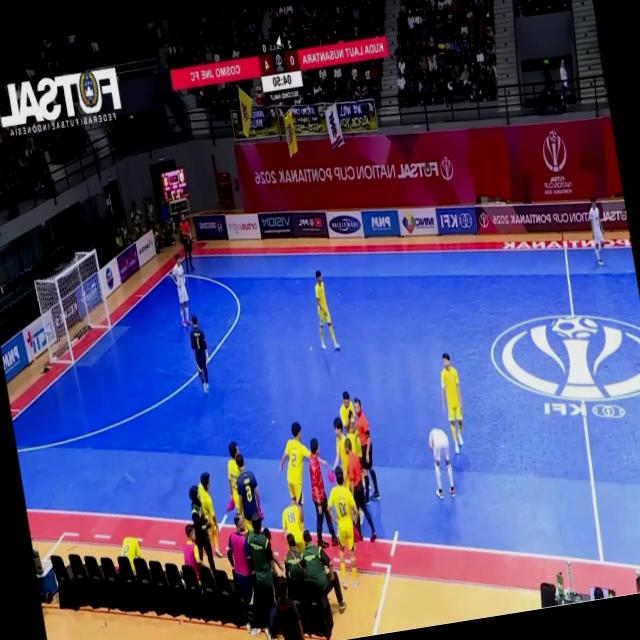keeper: (189, 316, 208, 393)
players: (327, 467, 357, 588), (279, 422, 309, 522), (440, 353, 462, 454), (235, 454, 260, 532), (314, 270, 338, 350), (428, 428, 454, 498), (170, 255, 189, 326), (281, 496, 303, 552), (227, 442, 241, 516), (332, 418, 347, 487), (588, 198, 603, 265), (178, 214, 192, 270)
referee: (344, 439, 375, 541), (353, 398, 378, 503), (179, 214, 193, 270)
